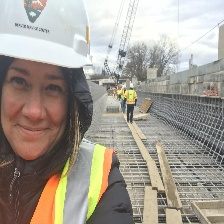helmet: (0, 0, 99, 74)
person: (0, 0, 110, 223), (126, 82, 137, 123)
vest: (127, 89, 137, 105)
